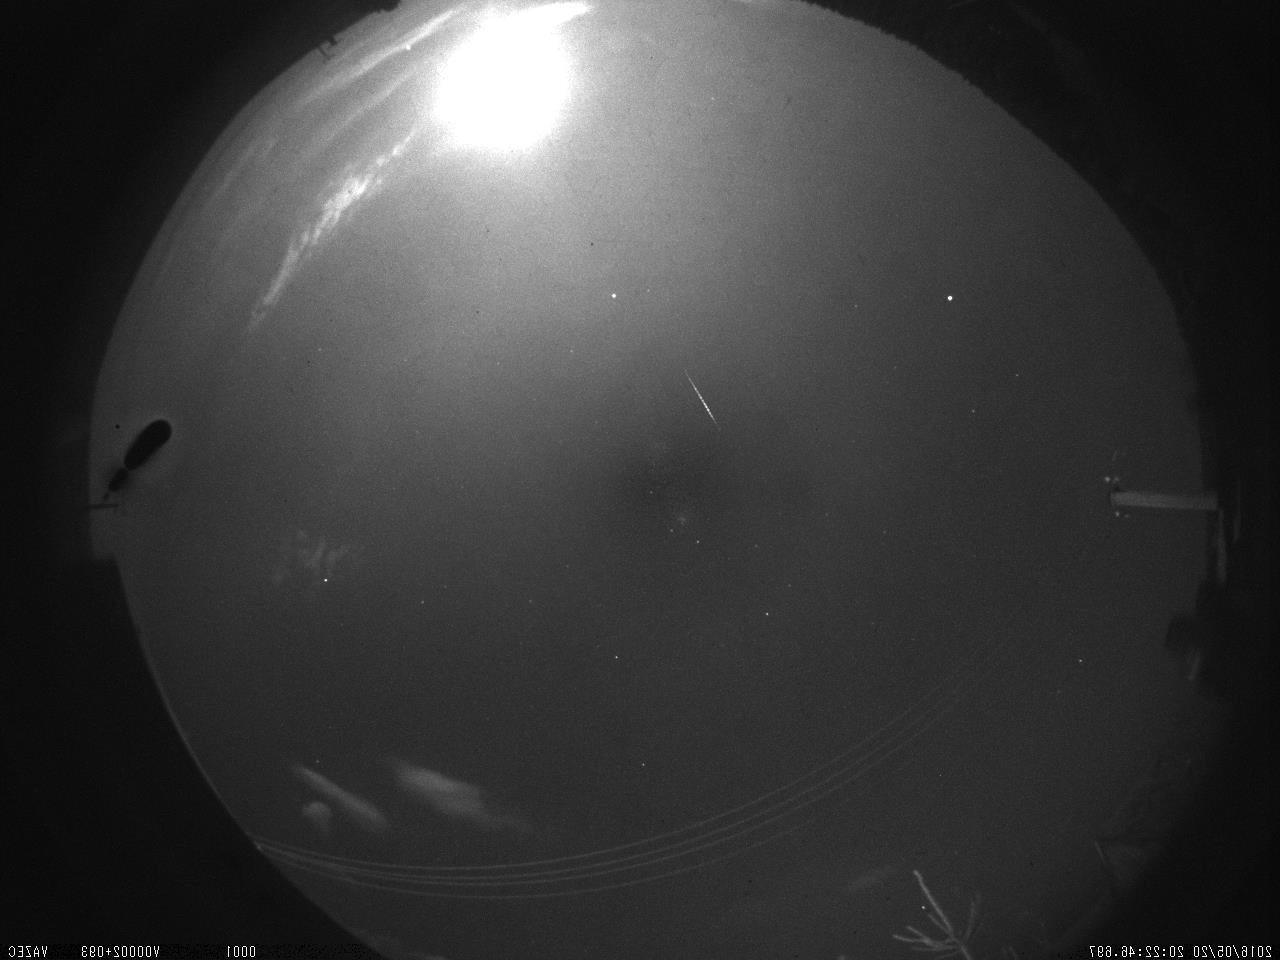meteor: (662, 363, 737, 437)
